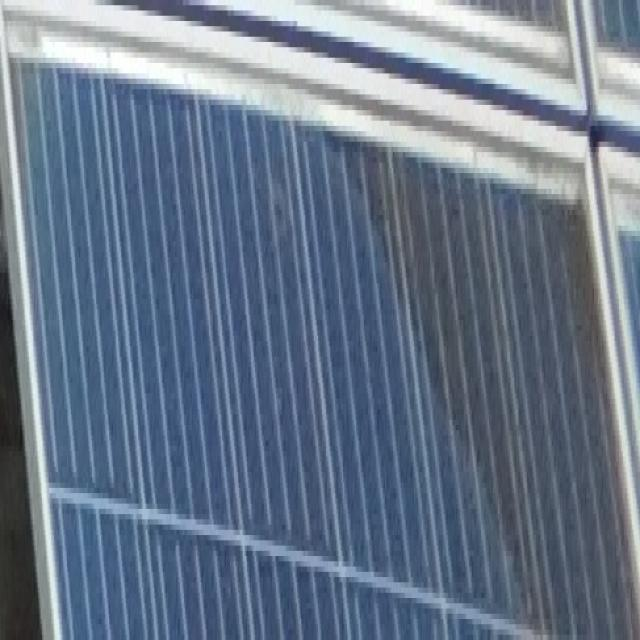Dust: (317, 105, 640, 640)
